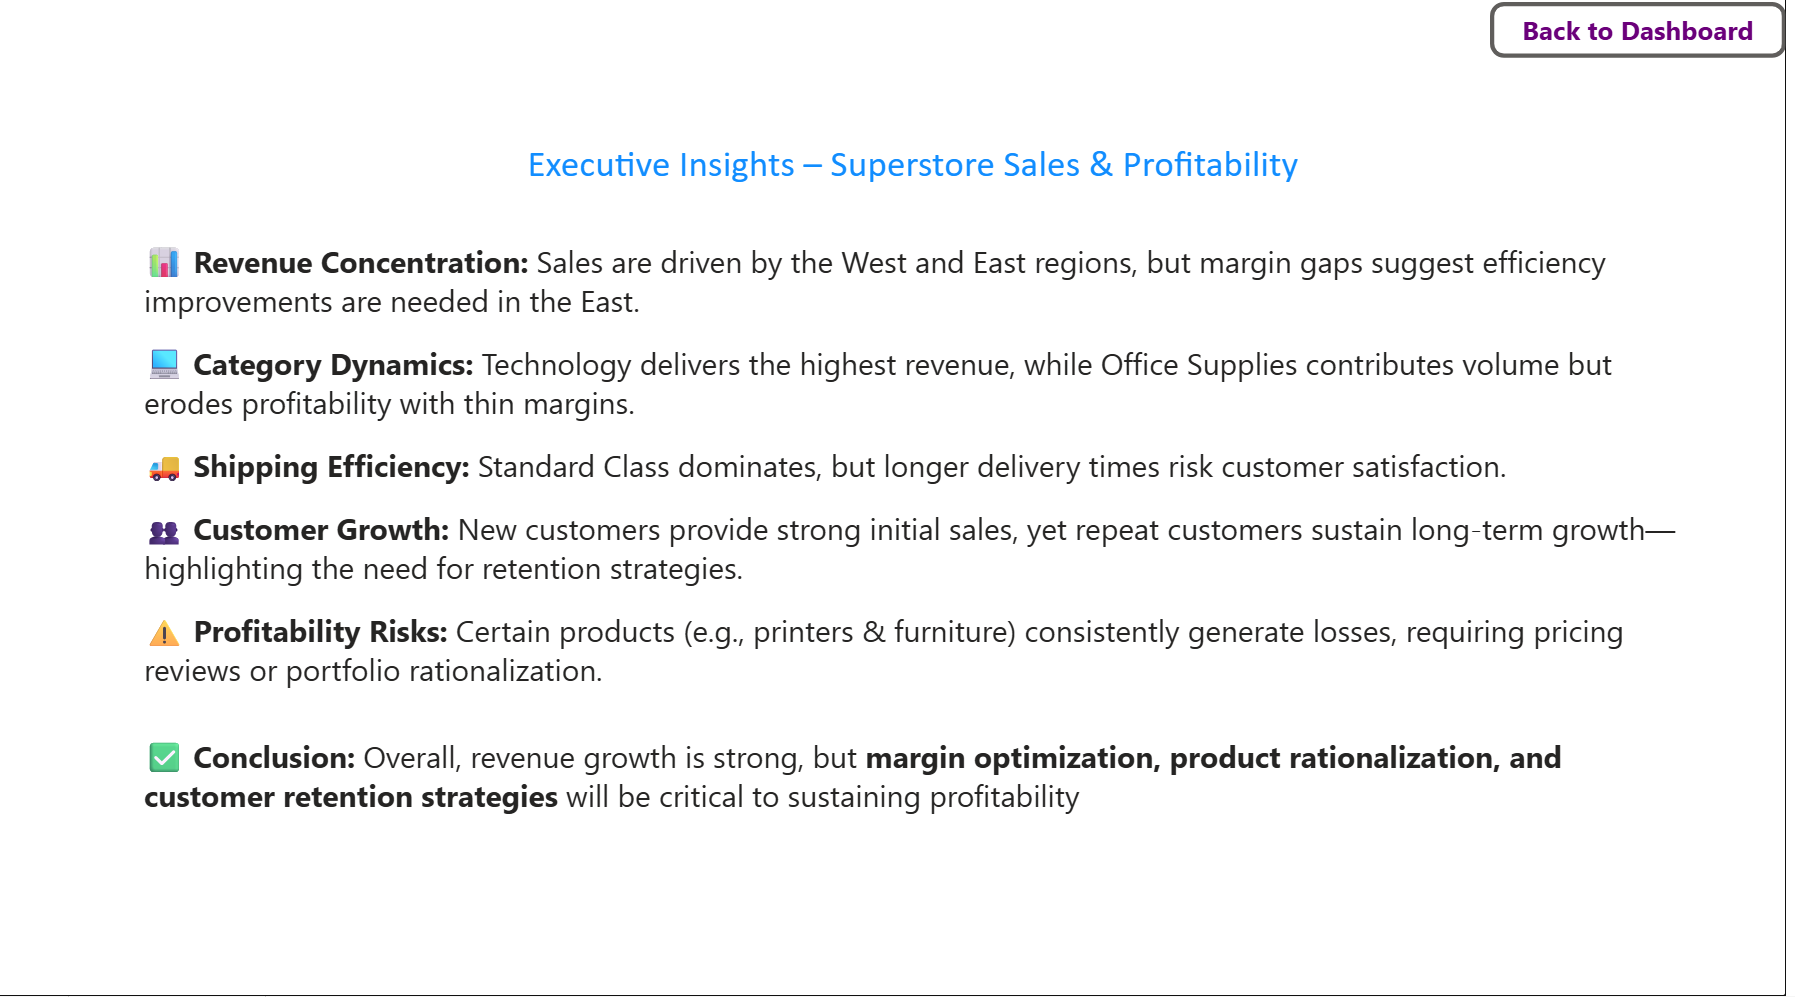

This screenshot's page, from the dashboard's own definition file:
{"tool":"powerbi","page":{"name":"Page 2","canvas":[1280,720],"ordinal":1},"visuals":[{"type":"textbox","title":"Executive Insights – Superstore Sales & Profitability","box":[102,109.5,1108.4,513.8],"z":0},{"type":"actionButton","box":[1068.6,10,211.5,39.8],"z":1}]}

Visuals, with their boxes in screenshot pixels (x1, y1, x2, y2), scaled from the page's 1280x720 canvas onto the 1795x997 screenshot:
"Executive Insights – Superstore Sales & Profitability" textbox: <box>143,152,1697,863</box>
actionButton: <box>1499,14,1794,69</box>
